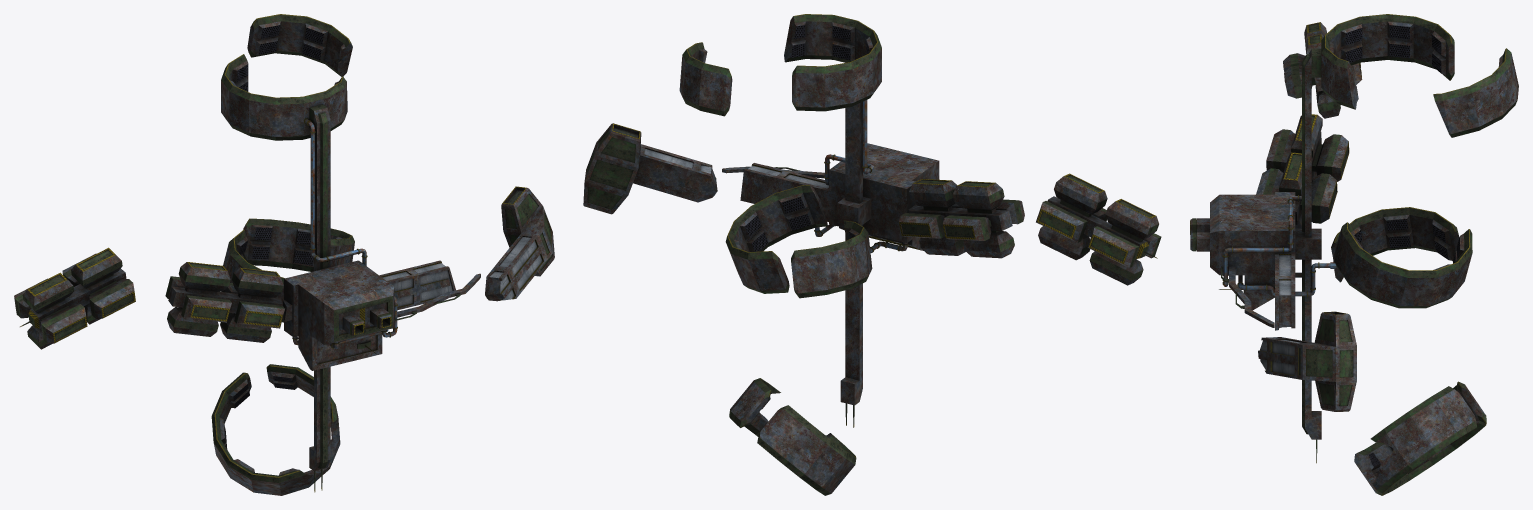
File: Derelict mining station.obj
3 renders of one model, left to right at view 1: azimuth 30°, elevation 25°; view 2: azimuth 150°, elevation 25°; view 3: azimuth 270°, elevation 25°, orthographic. The views are drawn at different scales.
Parts seen in each view (by area): view 1: station; view 2: station; view 3: station.
Boxes of the visible parts, box(x1,y1,x2,y2) form: station: box(14, 14, 554, 495); station: box(583, 14, 1161, 495); station: box(1190, 14, 1518, 495).
Size of the model in its own units: 167 by 126 by 82.2.
Materials: 1 (1 with a texture image).
